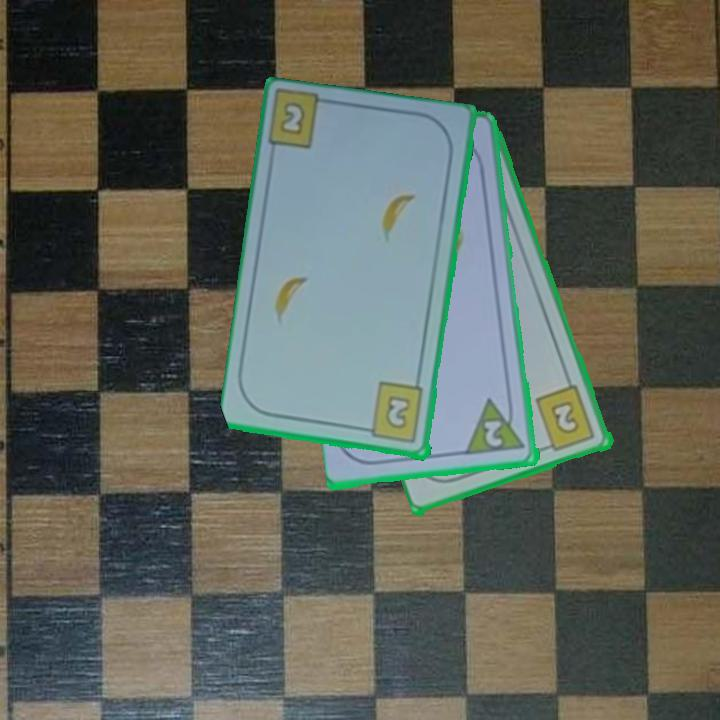2b: (532, 382, 598, 455), (359, 380, 427, 446), (280, 102, 306, 135)
2p: (464, 394, 529, 459)
